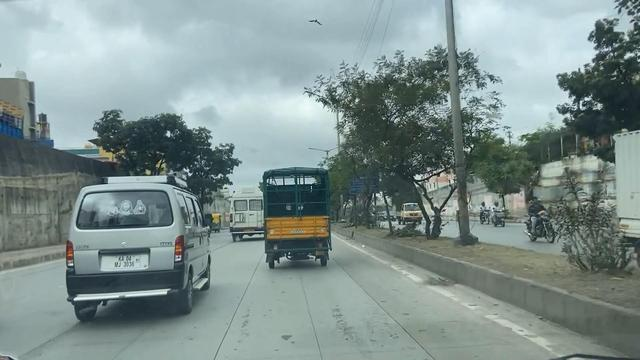HMV: (255, 167, 332, 272), (225, 190, 263, 243)
LMV: (61, 181, 211, 320)
